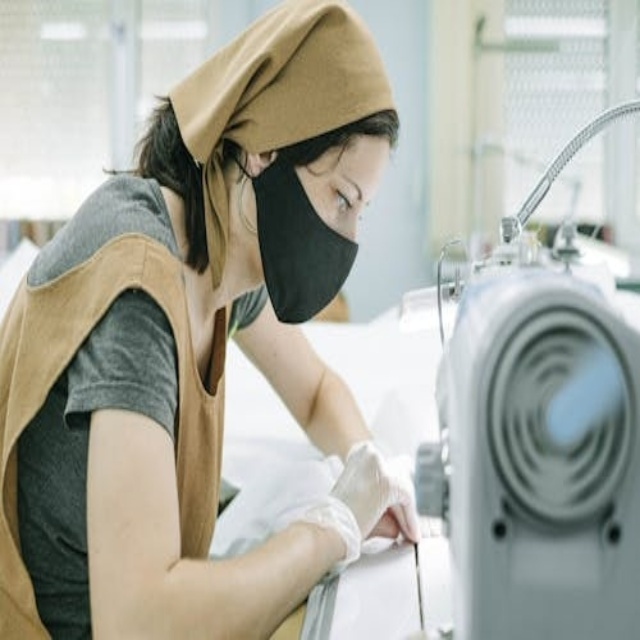Guantes: (347, 449, 424, 549), (282, 496, 364, 571)
Mascara: (250, 150, 360, 324)
Sin_gafas: (298, 144, 372, 223), (335, 189, 352, 211)
Sin_mascara: (332, 185, 357, 217)
